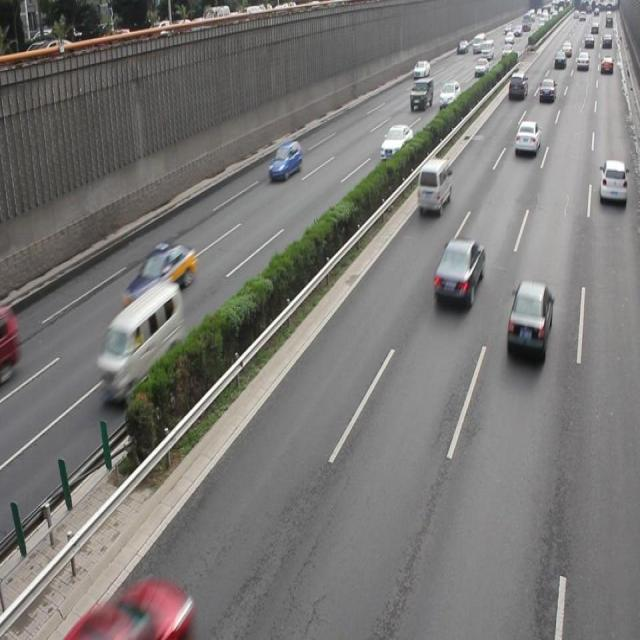car: (64, 579, 195, 640), (123, 240, 195, 310), (504, 278, 552, 361), (431, 236, 483, 308), (416, 157, 451, 214), (268, 139, 300, 181), (597, 158, 626, 202), (380, 123, 411, 159), (514, 119, 539, 156)
truck: (97, 281, 182, 396)
